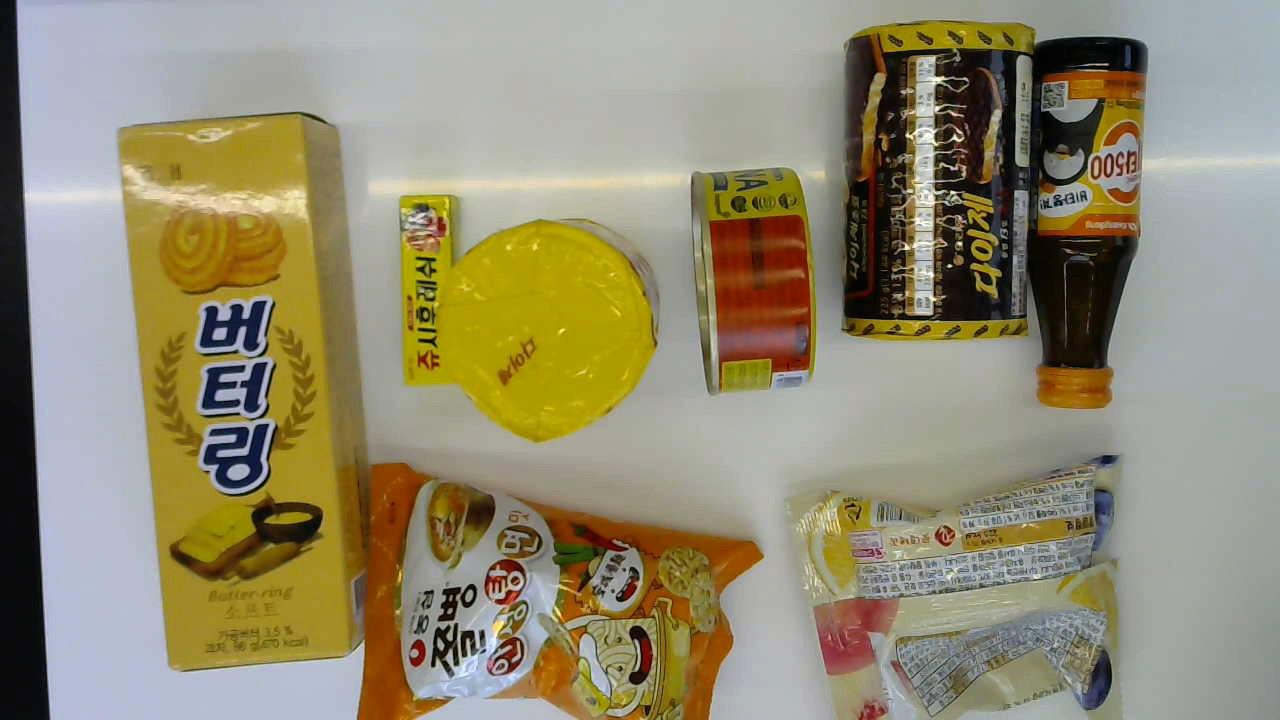buttering: (118, 113, 363, 669)
diget_choco: (844, 19, 1029, 336)
diget_ori: (453, 217, 658, 439)
gumi_gumi: (789, 452, 1121, 719)
jjolbyung_noodle: (357, 462, 762, 719)
juicyfresh: (397, 194, 461, 381)
tuna: (690, 165, 815, 389)
vita500: (1030, 37, 1149, 404)
